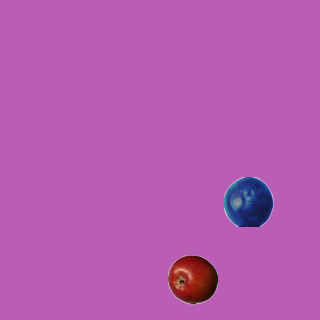Apple Braeburn: (167, 254, 217, 304)
Huckleberry: (223, 176, 273, 226)
